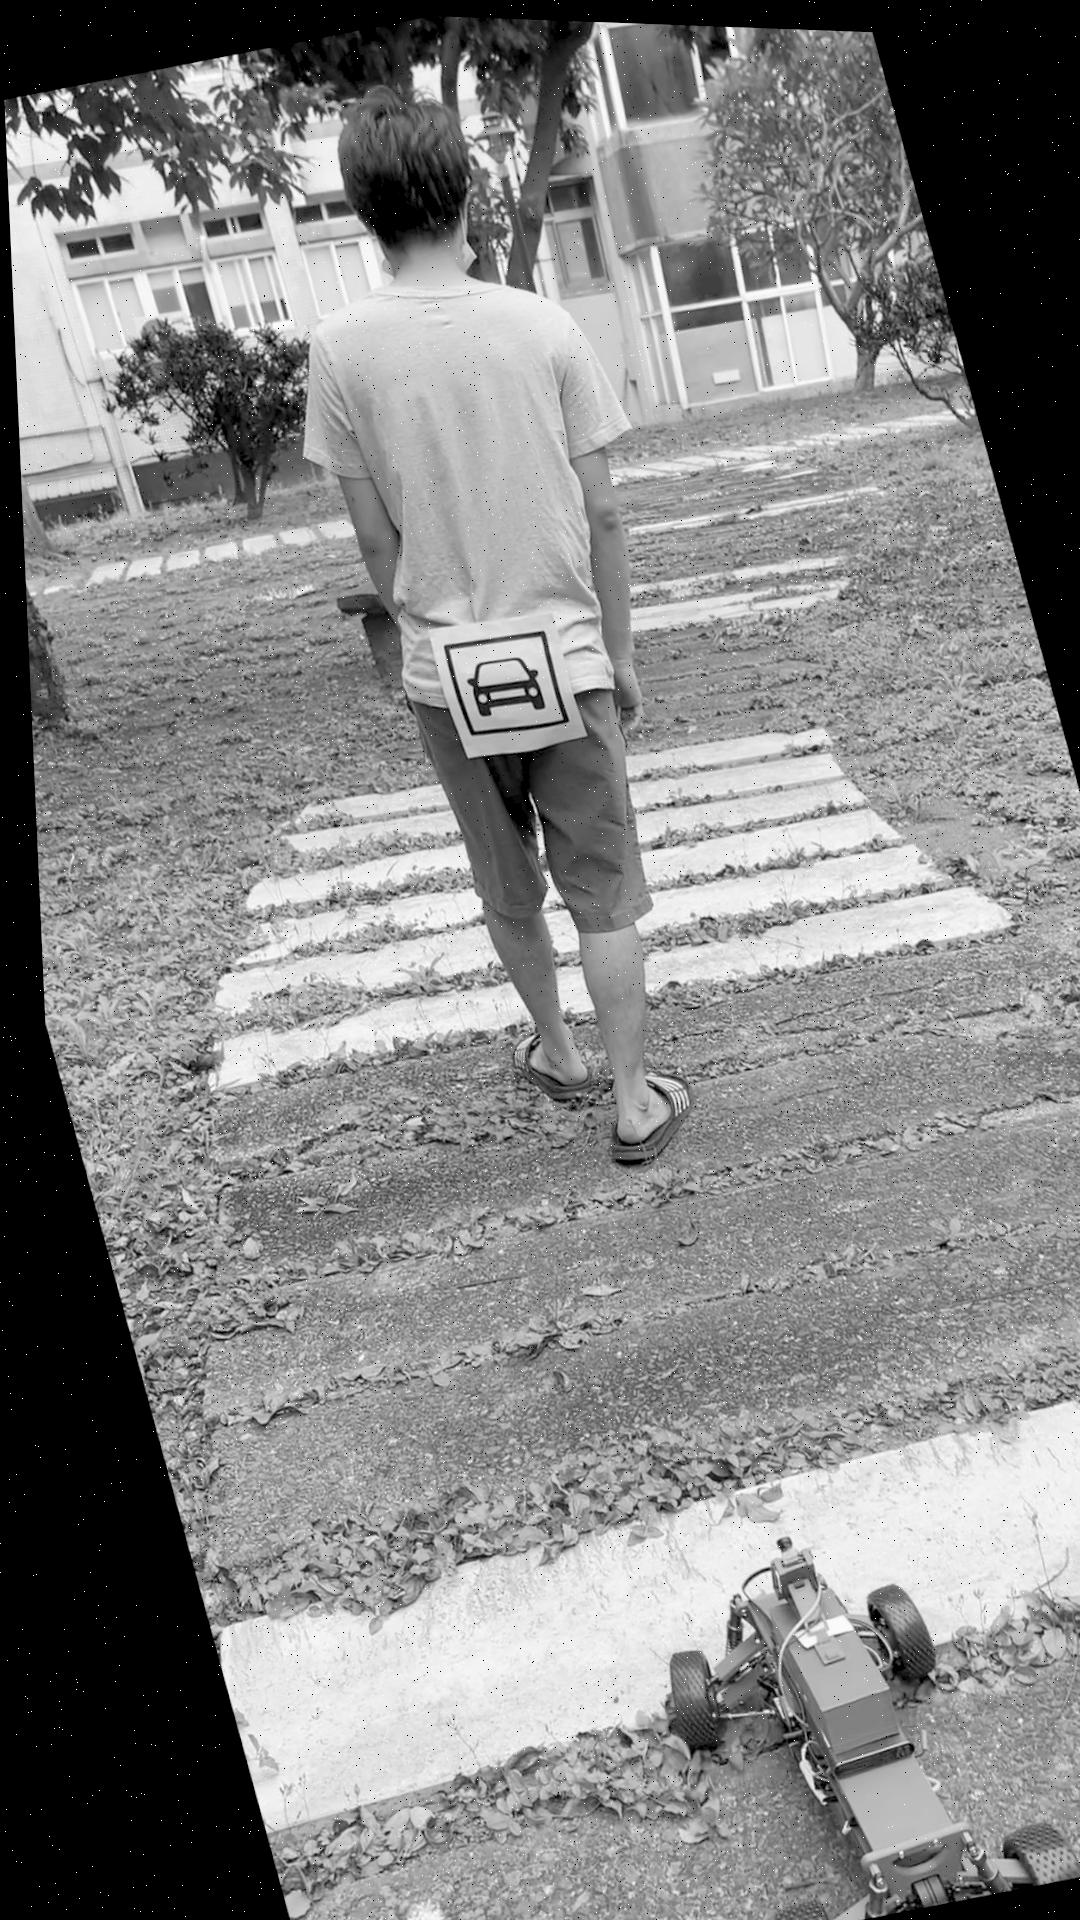car_img: (435, 617, 566, 742)
